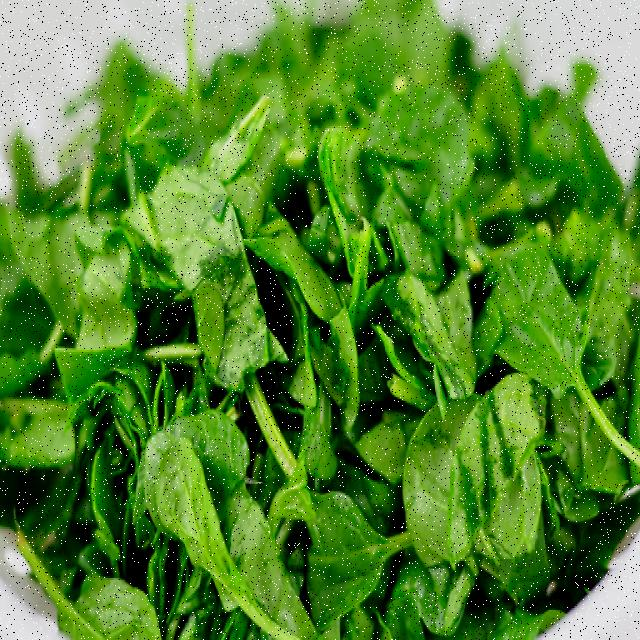Indian Spinach: (36, 107, 638, 593)
